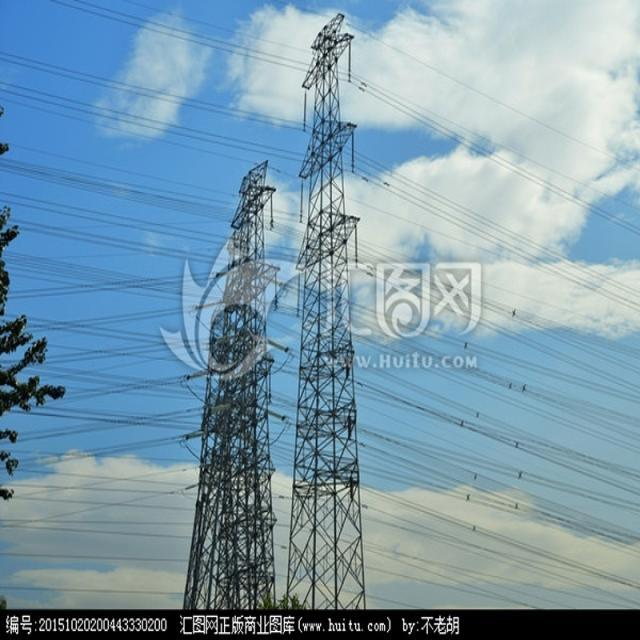non-critical vegetation: (282, 11, 394, 608), (186, 156, 280, 602)
